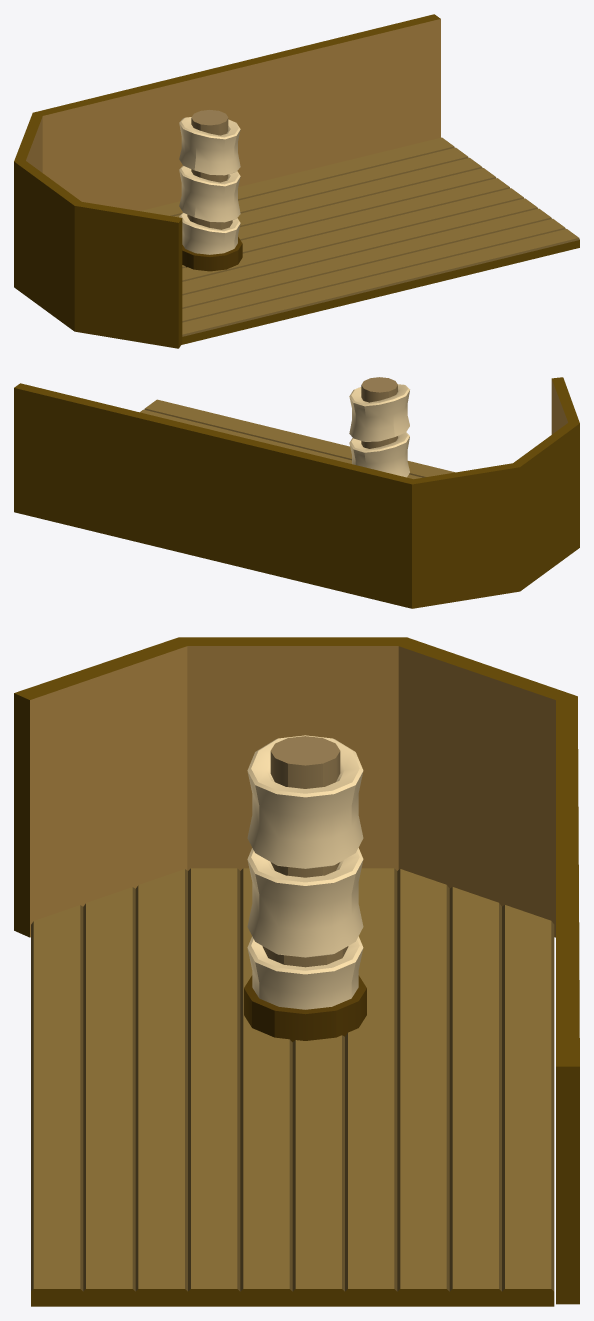
The model's file is basement2.fbx.
3 renders of one model, top to bottom at view 1: azimuth 30°, elevation 25°; view 2: azimuth 150°, elevation 25°; view 3: azimuth 270°, elevation 25°, orthographic. The views are drawn at different scales.
Visible parts, largest first — view 1: basement2; view 2: basement2; view 3: basement2.
Boxes of the visible parts, x1,y1,x2,y2 form: basement2: (14, 14, 579, 348); basement2: (14, 377, 579, 608); basement2: (14, 637, 579, 1306).
Bounding box in the file's own units: 930 × 285 × 518.
